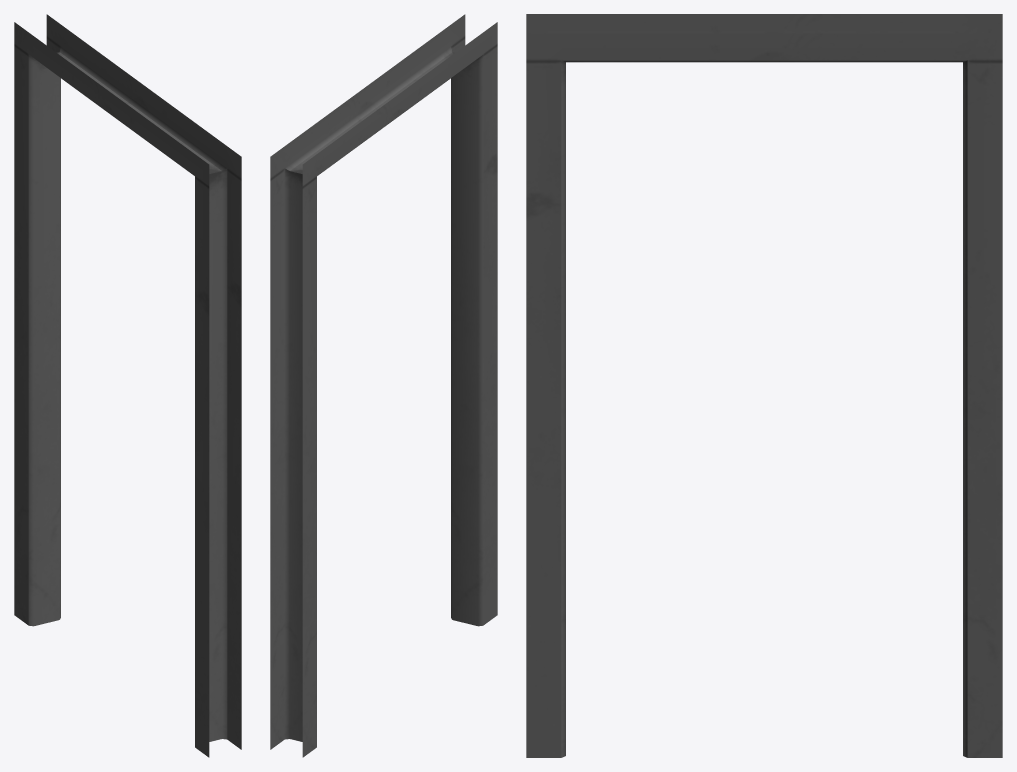
The model's file is MetalFrame.glb.
The picture shows the model from 3 angles, left to right: view 1: azimuth 30°, elevation 25°; view 2: azimuth 150°, elevation 25°; view 3: azimuth 270°, elevation 25°; orthographic projection. The views are drawn at different scales.
Visible parts, largest first — view 1: MetalFrame; view 2: MetalFrame; view 3: MetalFrame.
Boxes of the visible parts, box(x1,y1,x2,y2) form: MetalFrame: box(14, 14, 241, 757); MetalFrame: box(270, 14, 497, 757); MetalFrame: box(526, 14, 1002, 757).
Size of the model in its own units: 0.0928 by 1.63 by 0.9726.
1 material, 1 textured.
